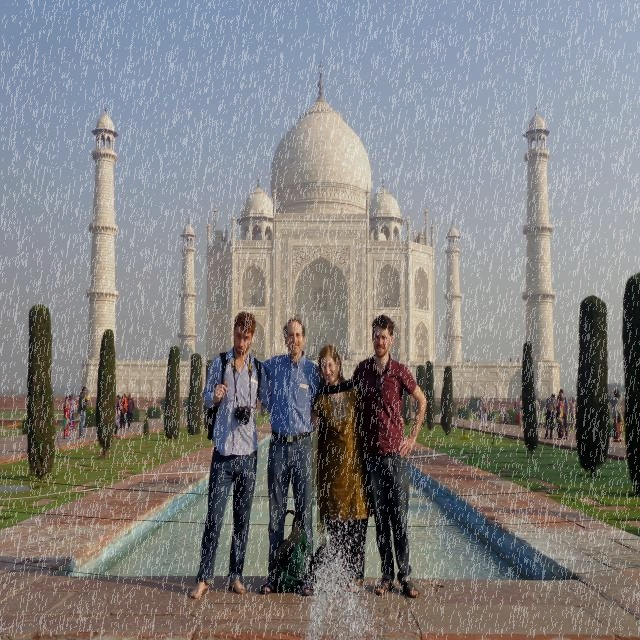pessoa: (338, 312, 428, 600), (188, 310, 274, 600), (259, 317, 322, 597), (307, 344, 374, 596), (608, 388, 624, 443), (556, 388, 570, 439), (77, 386, 90, 439), (544, 392, 556, 440), (124, 392, 136, 430), (478, 394, 489, 430), (118, 392, 128, 430), (556, 394, 564, 440), (62, 400, 70, 440), (66, 394, 74, 431), (516, 394, 524, 428), (70, 399, 76, 430), (114, 402, 119, 437), (535, 394, 541, 422), (570, 398, 576, 422), (570, 397, 575, 422), (116, 394, 122, 414), (504, 410, 511, 424), (64, 394, 70, 402), (516, 356, 520, 363), (146, 354, 149, 361), (574, 400, 578, 405), (12, 388, 14, 397), (509, 358, 512, 362), (469, 359, 471, 362), (466, 359, 468, 362), (74, 391, 76, 394)
